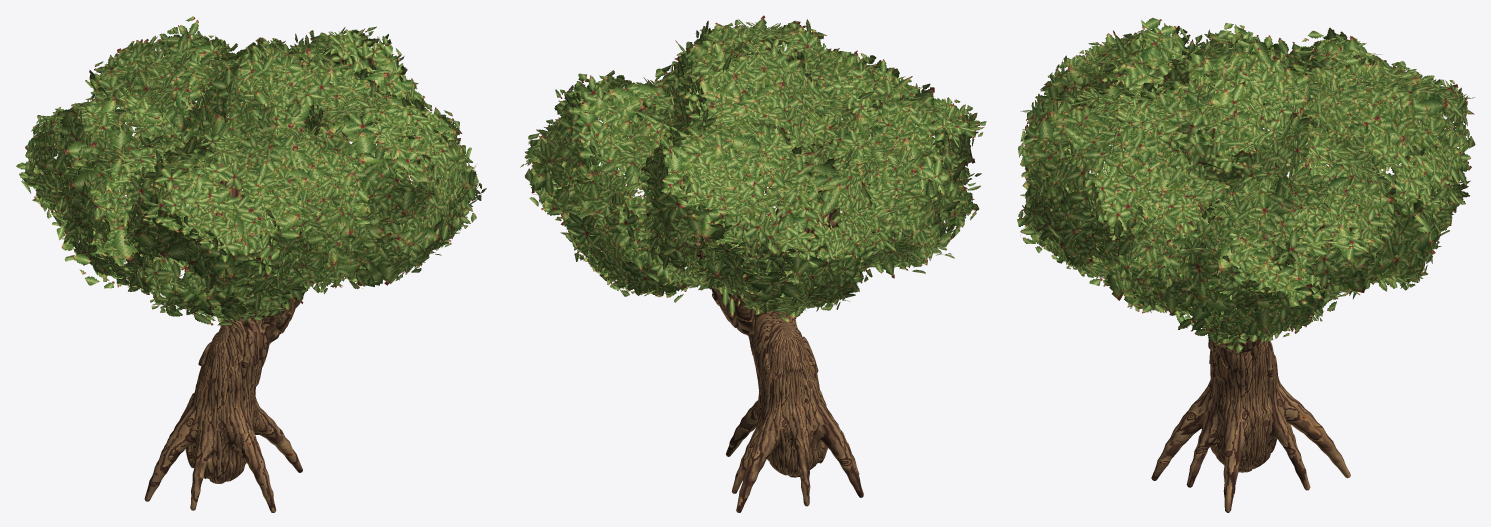
File: macieira_anterior_LOD_B.glb
3 renders of one model, left to right at view 1: azimuth 30°, elevation 25°; view 2: azimuth 150°, elevation 25°; view 3: azimuth 270°, elevation 25°, orthographic. The views are drawn at different scales.
Visible parts, largest first — view 1: macieira_inclinada; view 2: macieira_inclinada; view 3: macieira_inclinada.
Boxes of the visible parts, x1,y1,x2,y2 form: macieira_inclinada: (16,16,486,512); macieira_inclinada: (520,15,986,512); macieira_inclinada: (1017,17,1475,512).
Size of the model in its own units: 6.03 by 6.27 by 5.66.
Materials: 2 (2 with a texture image).
